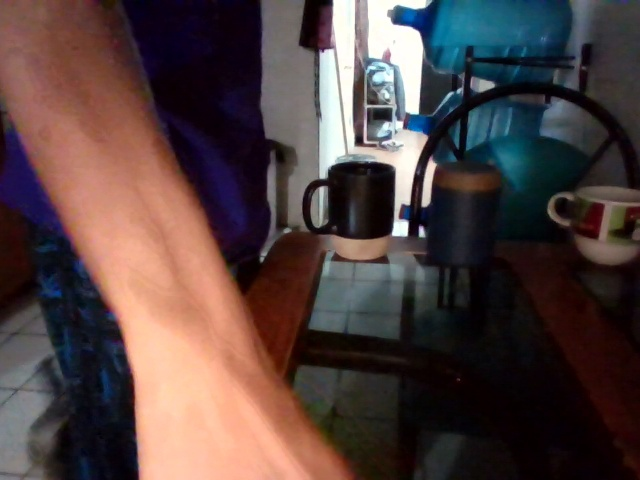taza: (303, 158, 396, 252)
